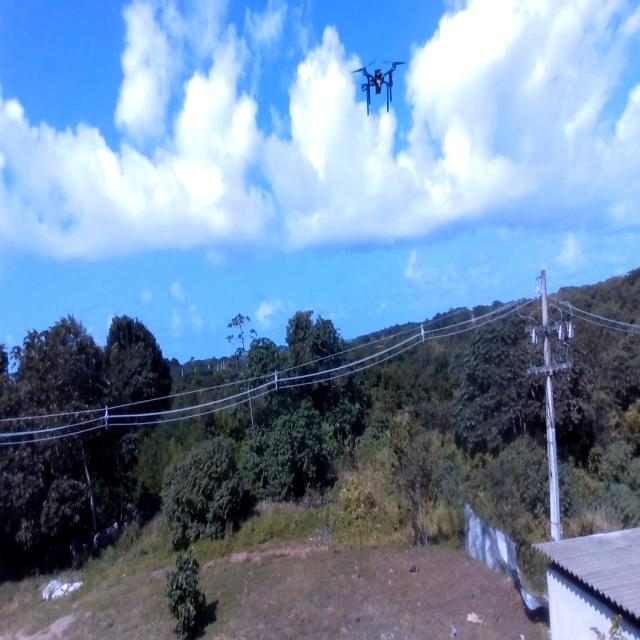-uav-: (346, 49, 410, 124)
